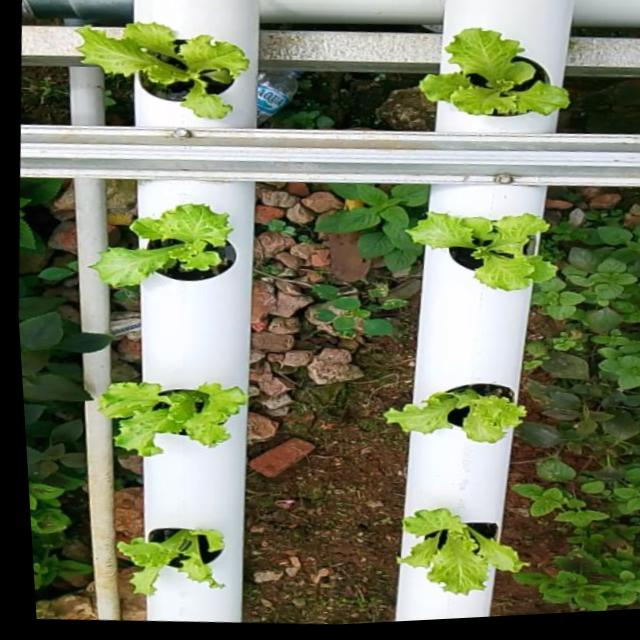Baby: (73, 20, 247, 117), (419, 21, 570, 126), (95, 195, 241, 280), (404, 206, 557, 286), (103, 373, 253, 448), (400, 499, 531, 584), (387, 375, 530, 435), (123, 518, 229, 584)
